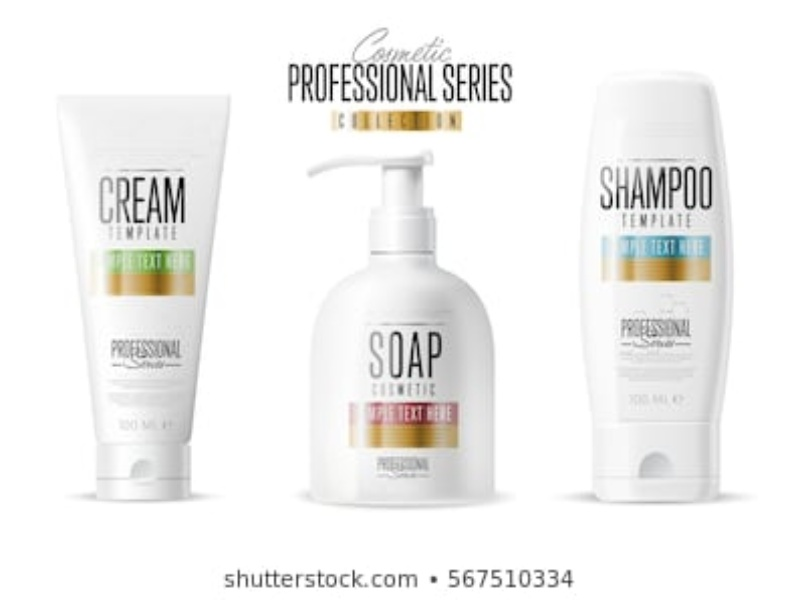shampoo-bottle: (52, 89, 231, 503), (303, 150, 505, 509), (577, 72, 728, 505)
